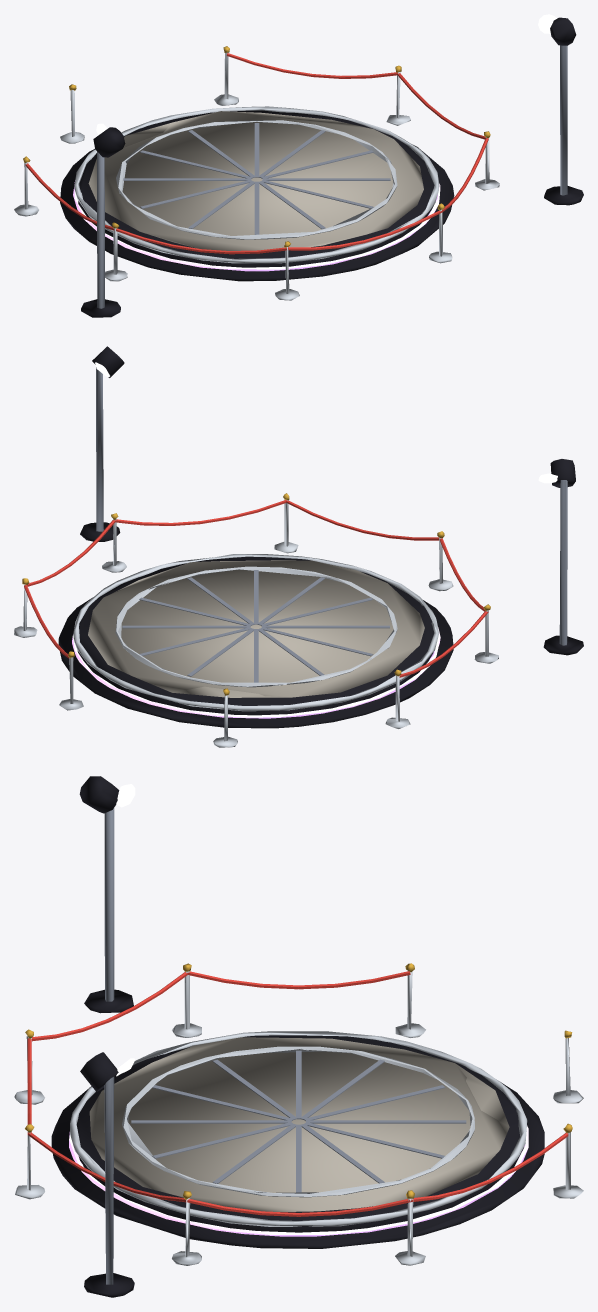
File: show_turntable.glb
3 renders of one model, top to bottom at view 1: azimuth 30°, elevation 25°; view 2: azimuth 150°, elevation 25°; view 3: azimuth 270°, elevation 25°, orthographic. The views are drawn at different scales.
Visible parts, largest first — view 1: turntable_top.001, show_turntable.001; view 2: turntable_top.001, show_turntable.001; view 3: turntable_top.001, show_turntable.001.
Part boxes in pixels (x1,y1,x2,y2): turntable_top.001: [88, 111, 423, 250]; show_turntable.001: [14, 14, 583, 317]; turntable_top.001: [88, 560, 424, 697]; show_turntable.001: [14, 346, 583, 747]; turntable_top.001: [89, 1037, 509, 1212]; show_turntable.001: [14, 776, 583, 1297].
Size of the model in its own units: 9.89 by 3.5 by 7.82.
1 material, 1 textured.
